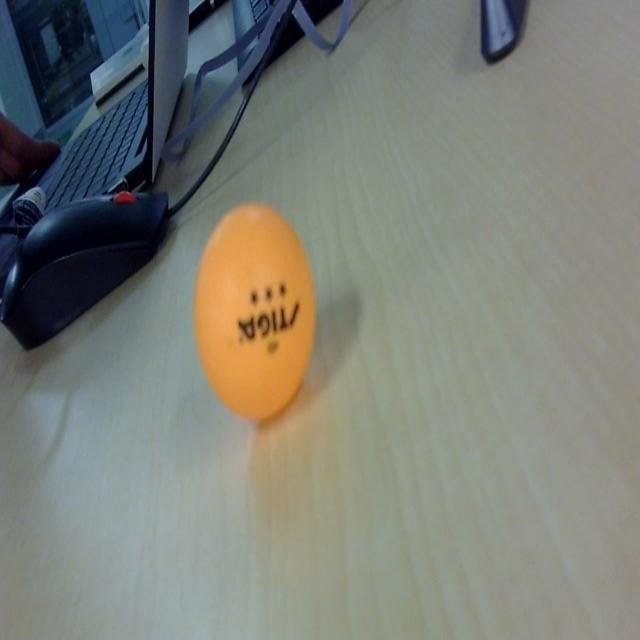ball: (192, 200, 316, 423)
